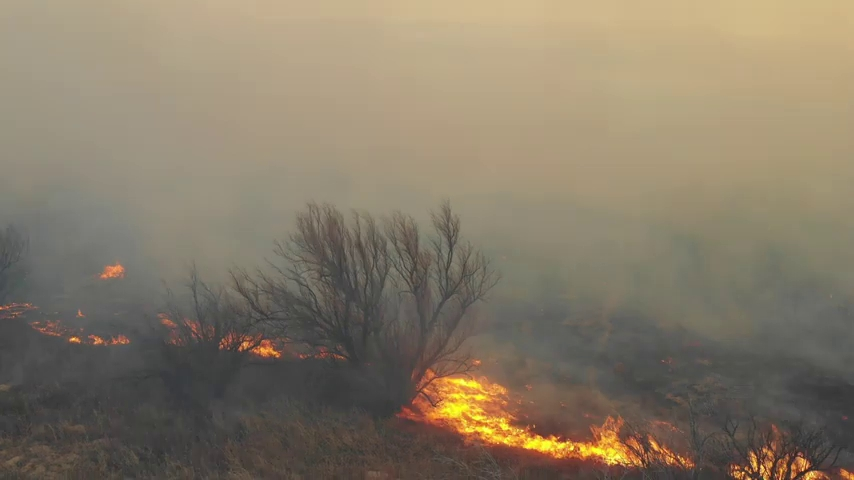forest_fire: (399, 377, 695, 468), (728, 435, 853, 479), (32, 322, 129, 345), (239, 337, 282, 357), (99, 264, 124, 277)
